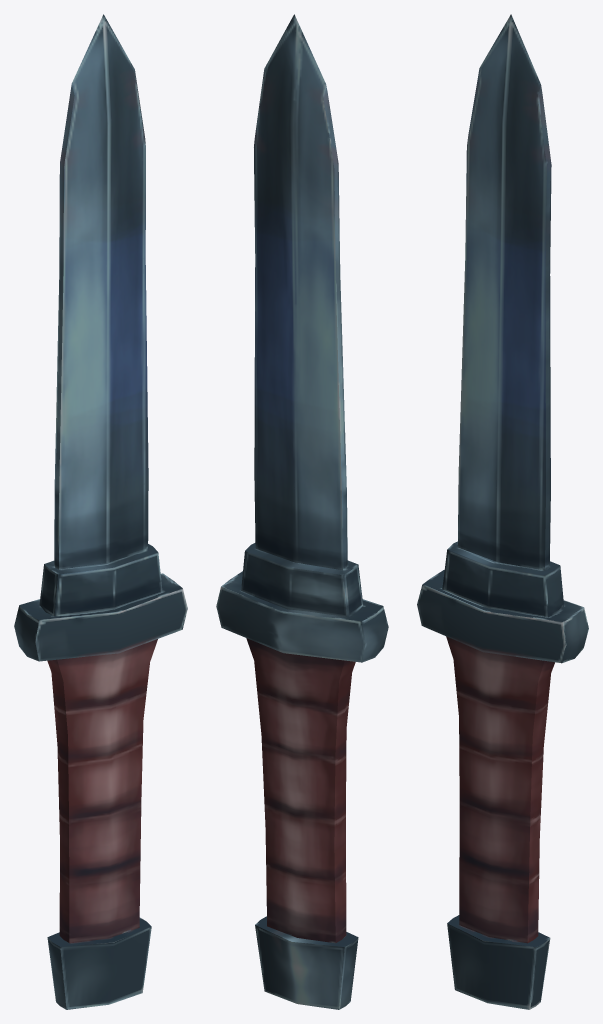
Rendered from knife.glb.
3 views of the same model, side by side, from view 1: azimuth 30°, elevation 25°; view 2: azimuth 150°, elevation 25°; view 3: azimuth 330°, elevation 25° (orthographic).
Parts seen in each view (by area): view 1: Knife; view 2: Knife; view 3: Knife.
Boxes of the visible parts, bbox=[...] form: Knife: bbox=[14, 14, 187, 1009]; Knife: bbox=[216, 14, 388, 1009]; Knife: bbox=[417, 14, 588, 1009].
Bounding box in the file's own units: 7.69 × 46.5 × 3.37.
Materials: 1 (1 with a texture image).
